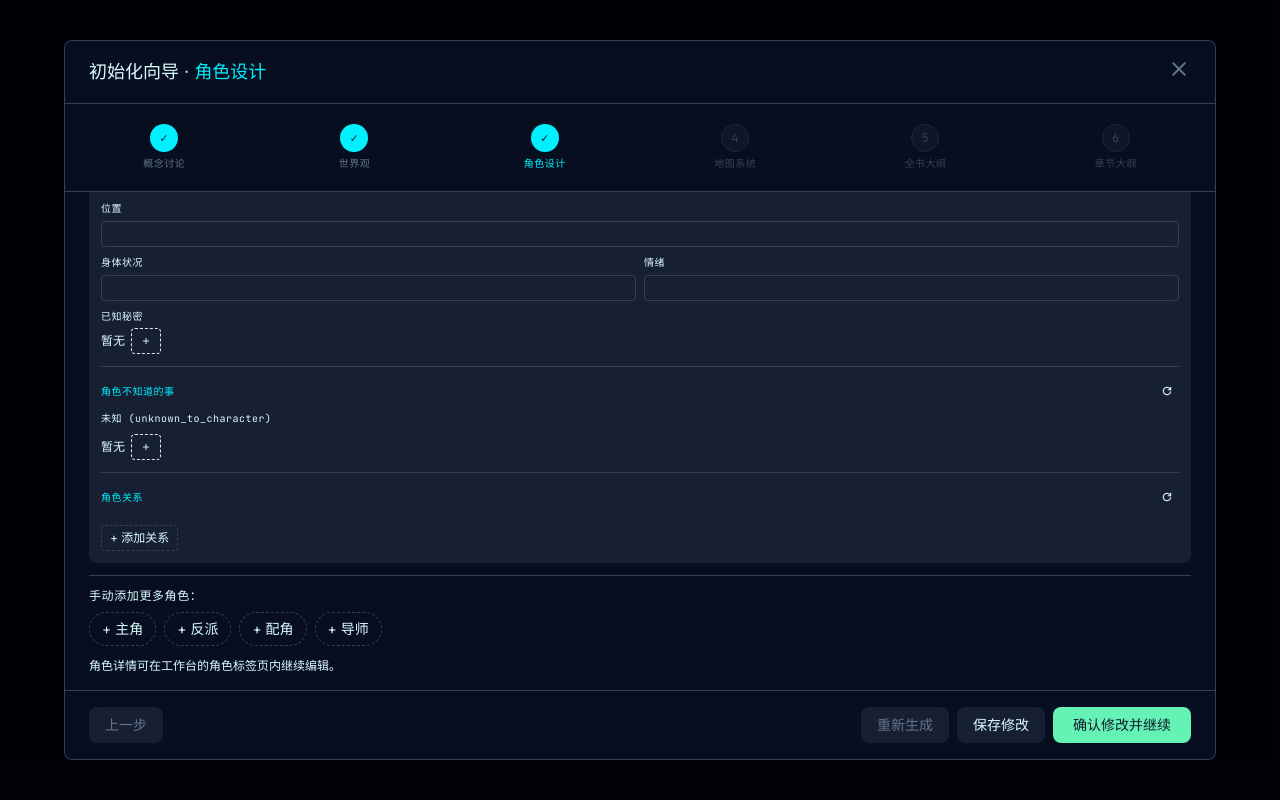
Test: CharacterStep › relation card resolves target id to character name when present in the cast
This screenshot has width=1280, height=800.
(page scrolled)
Click the button with test id "character-add-supporting" at (273, 629), box top-left (239, 612), bottom-right (307, 646)
(page scrolled)
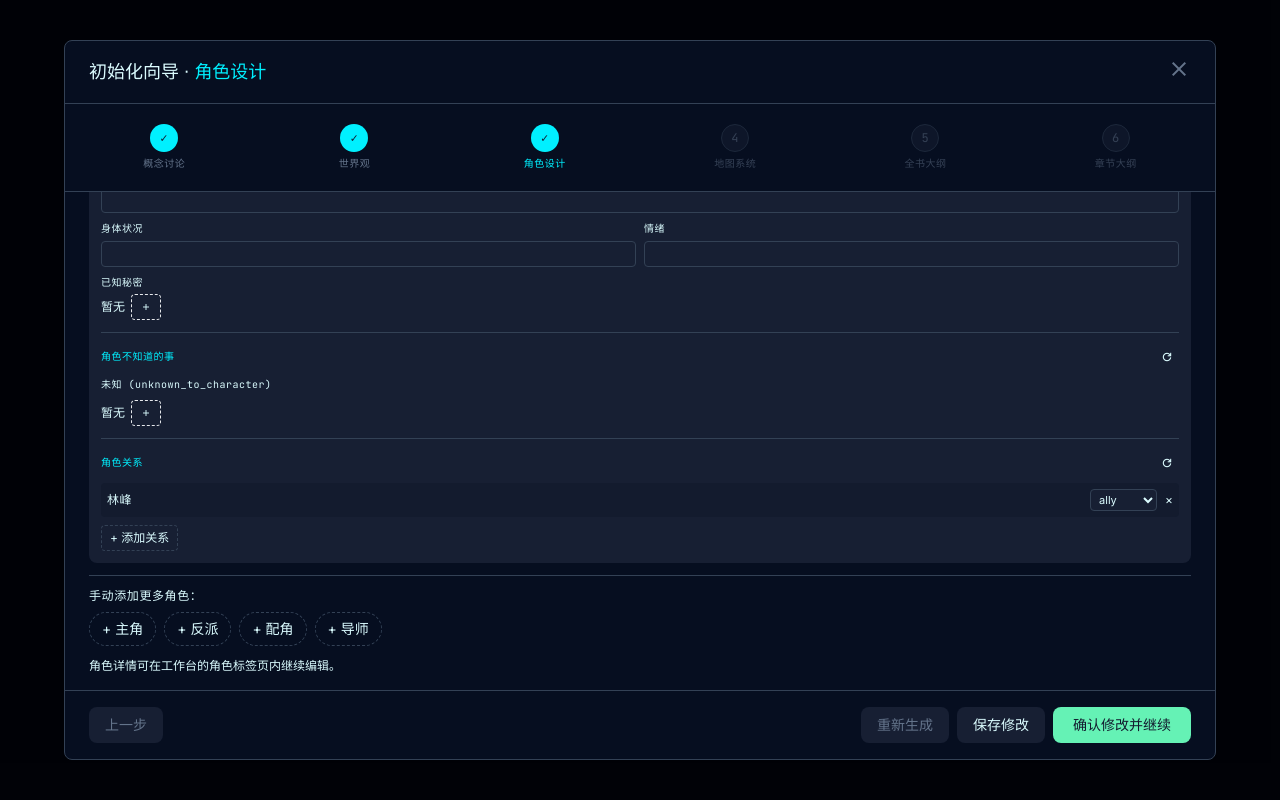
Result: the element with test id "character-c2-relations" shows "林峰" at top-left (107, 492), bottom-right (132, 508)
